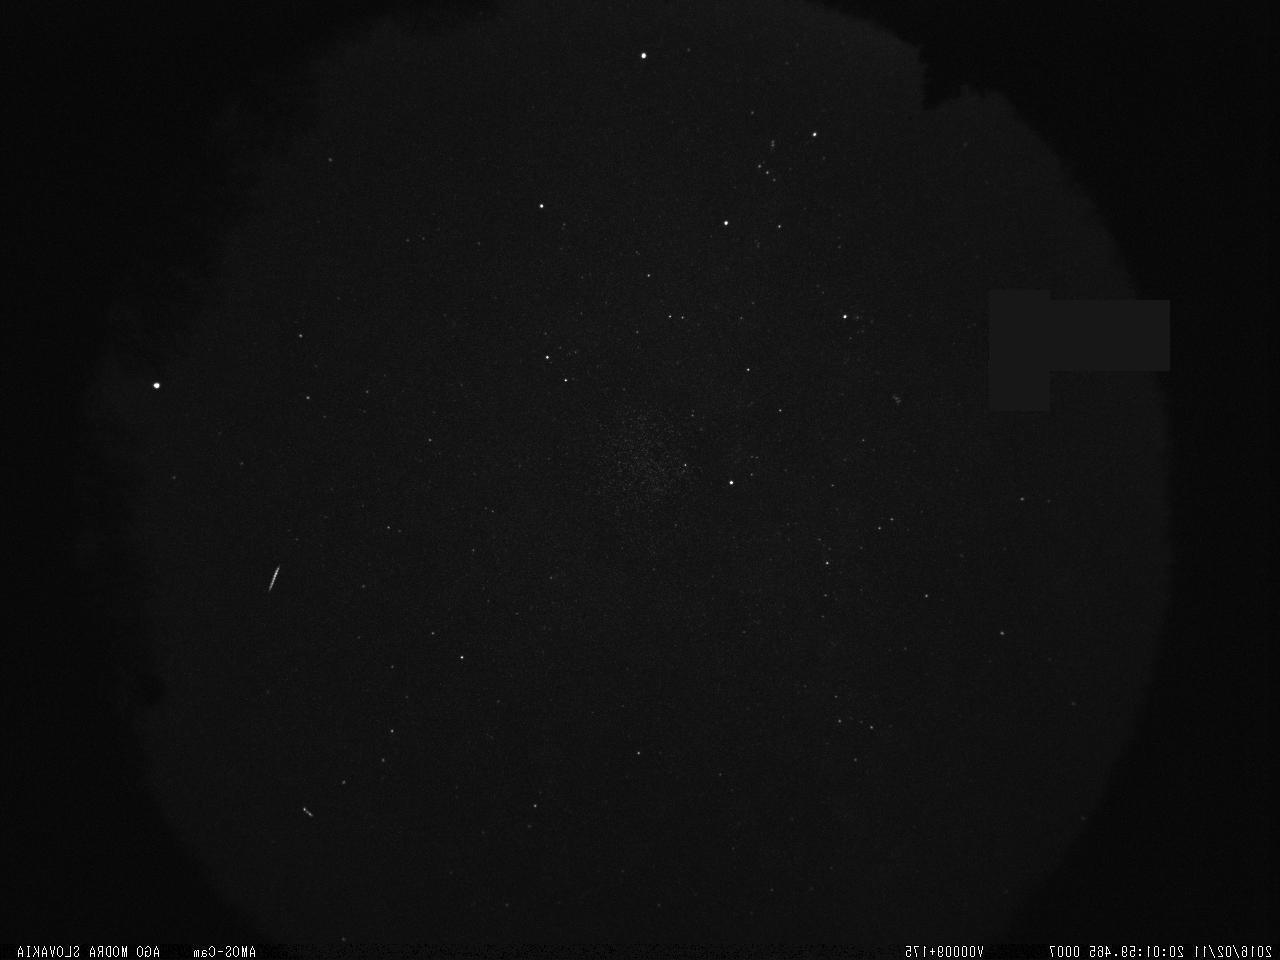meteor: (261, 563, 285, 599)
